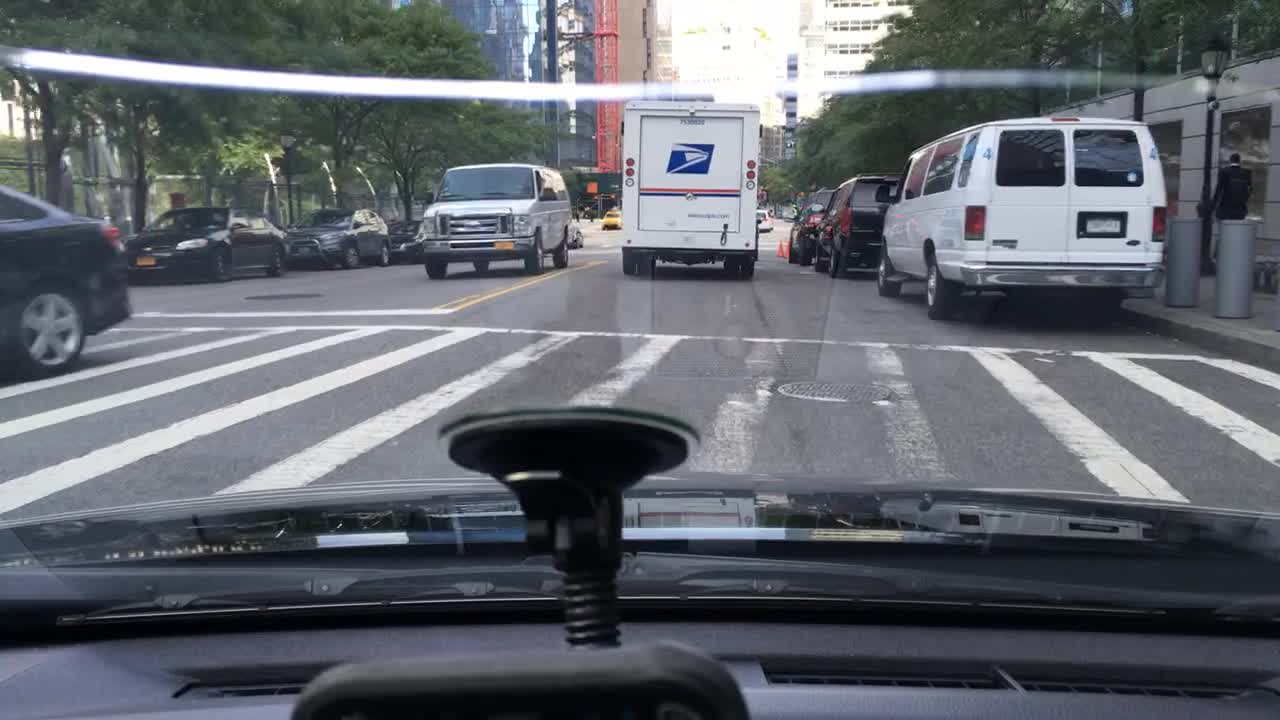car: (871, 109, 1168, 322), (0, 183, 137, 377), (418, 161, 570, 280), (122, 205, 289, 280), (812, 170, 905, 280), (285, 205, 393, 268), (785, 186, 835, 268), (387, 215, 426, 269), (566, 215, 584, 251), (752, 205, 774, 232), (598, 207, 620, 234)
person: (1207, 151, 1257, 261)
truck: (617, 97, 763, 279)
